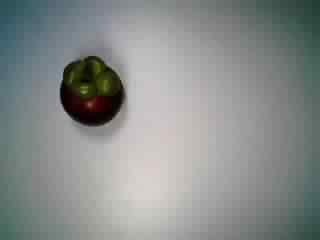mangosteen: (57, 50, 127, 129)
